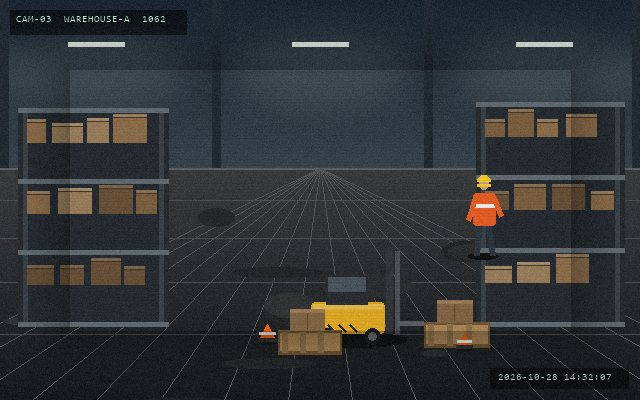cone: (257, 322, 277, 344), (455, 330, 473, 351)
forklift: (307, 249, 424, 347)
pallet: (422, 320, 491, 349), (276, 328, 343, 356)
person: (466, 173, 502, 258)
shelf: (476, 102, 624, 322), (18, 108, 168, 322)
